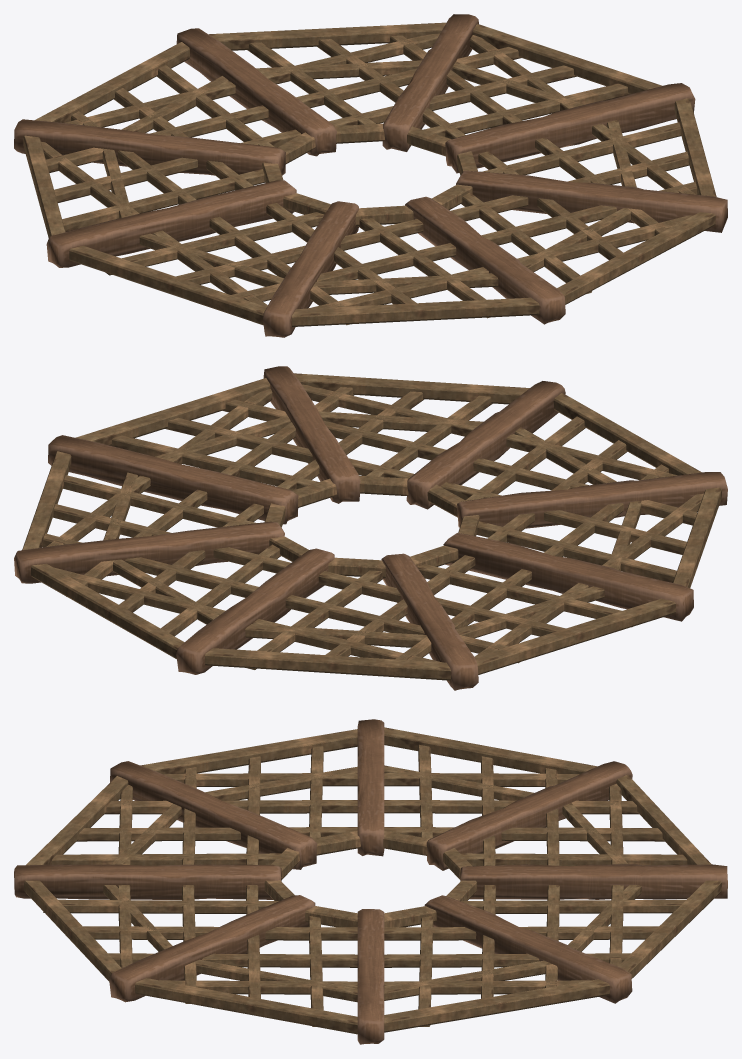
Rendered from SM_platform_grid.fbx.
The picture shows the model from 3 angles, top to bottom: view 1: azimuth 30°, elevation 25°; view 2: azimuth 150°, elevation 25°; view 3: azimuth 270°, elevation 25°; orthographic projection. The views are drawn at different scales.
Parts seen in each view (by area): view 1: platform_grid; view 2: platform_grid; view 3: platform_grid.
Boxes of the visible parts, <box> form: platform_grid: <box>14,14,727,337</box>; platform_grid: <box>14,366,727,690</box>; platform_grid: <box>14,719,727,1044</box>.
Bounding box in the file's own units: 799 × 31.08 × 799.
